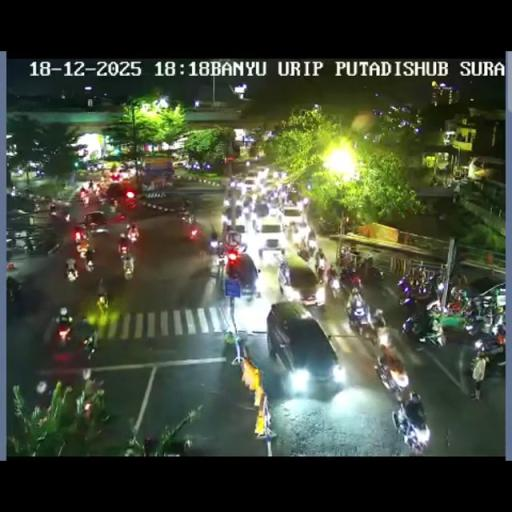Car: (266, 300, 341, 386), (278, 258, 324, 306), (223, 251, 259, 299), (140, 192, 194, 222), (255, 214, 284, 250), (279, 207, 306, 240), (224, 222, 249, 251), (82, 210, 108, 230), (243, 176, 259, 191)
Motorcycle: (66, 207, 136, 282), (472, 336, 506, 390), (398, 412, 432, 454), (81, 380, 109, 427), (345, 296, 375, 339), (406, 312, 442, 346), (372, 355, 398, 393), (221, 330, 240, 366), (465, 312, 491, 338), (54, 317, 73, 346), (328, 270, 346, 300), (362, 261, 384, 285), (447, 286, 467, 312), (31, 194, 56, 214), (396, 275, 414, 302), (74, 227, 90, 256), (375, 326, 393, 351), (82, 331, 98, 359), (6, 276, 22, 304), (120, 253, 135, 280), (48, 205, 70, 223), (434, 272, 449, 297), (120, 188, 138, 208), (452, 265, 466, 287), (340, 247, 354, 269), (492, 317, 506, 338), (65, 261, 78, 283), (126, 222, 139, 244), (417, 280, 432, 298), (220, 210, 234, 229), (96, 292, 108, 314), (426, 299, 442, 315), (188, 221, 201, 240), (297, 244, 310, 262), (96, 190, 110, 206), (46, 241, 62, 255), (350, 272, 362, 290), (306, 235, 318, 253), (84, 255, 95, 274), (243, 204, 254, 222), (24, 236, 35, 254), (296, 197, 310, 211), (118, 238, 130, 254), (216, 240, 226, 259), (316, 262, 326, 281), (267, 204, 280, 218), (453, 179, 462, 199), (78, 189, 89, 205), (316, 247, 326, 264), (182, 210, 194, 224), (107, 194, 118, 208), (6, 236, 16, 251), (233, 204, 242, 220), (10, 186, 16, 196), (88, 182, 93, 190)
